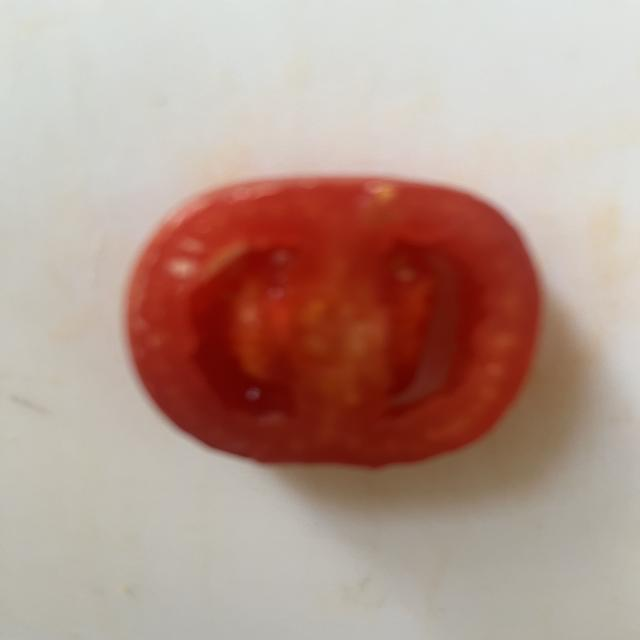sliced_tomato: (128, 177, 539, 467)
